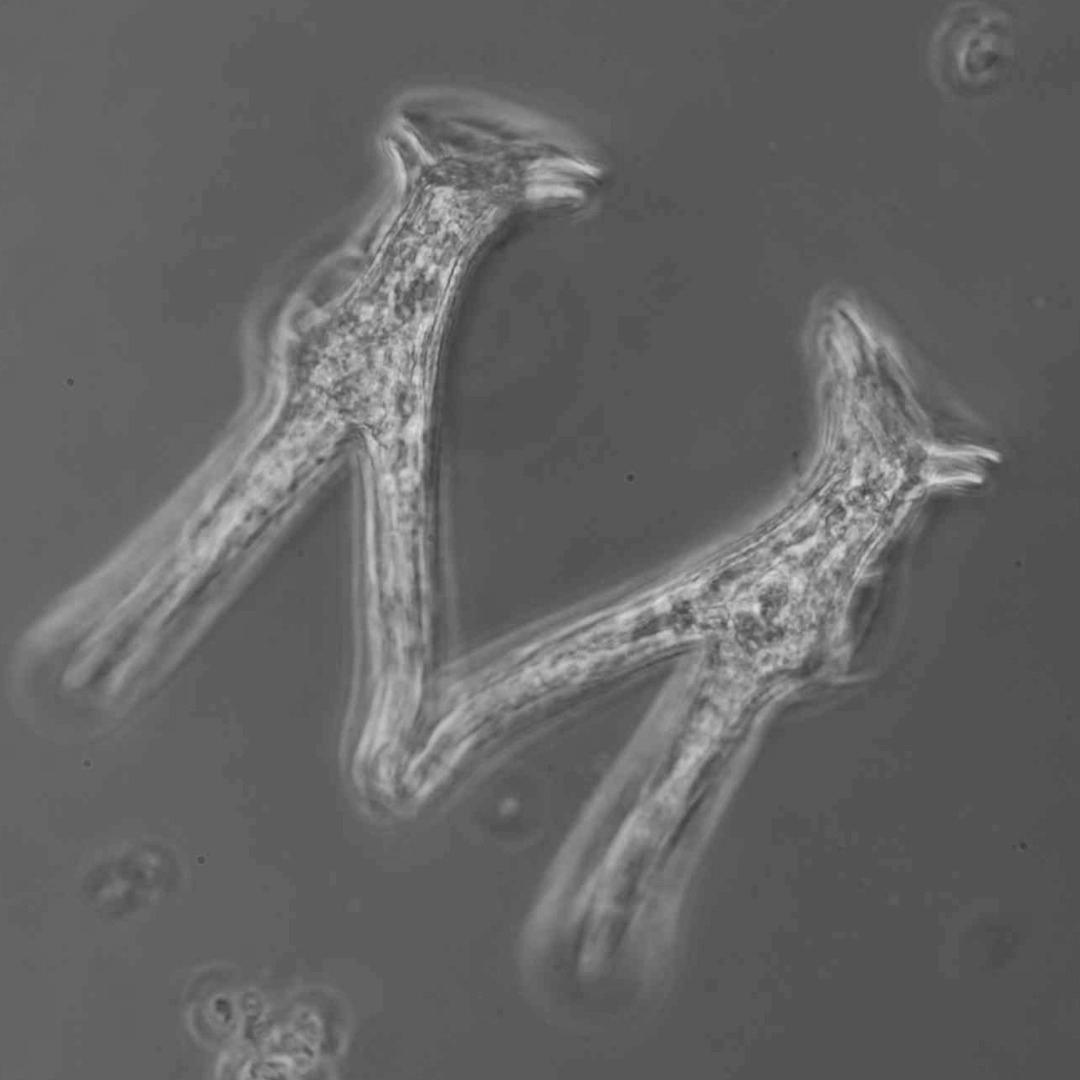dinophysis_miles: (403, 306, 998, 978), (57, 101, 606, 801)
